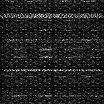lte: (1, 12, 104, 18), (1, 67, 104, 72)
